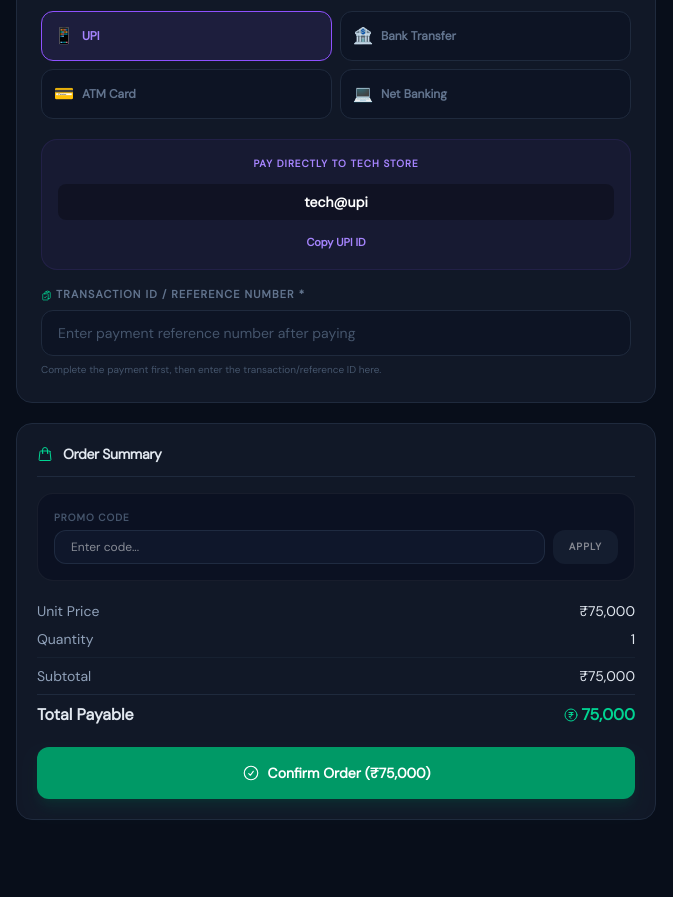
Test: Checkout Page › applies a valid coupon
The image size is (673, 897).
(page scrolled)
Step 1. Type "SAVE10" into the field with placeholder "Enter code..." → (299, 547), box top-left (54, 530), bottom-right (545, 564)
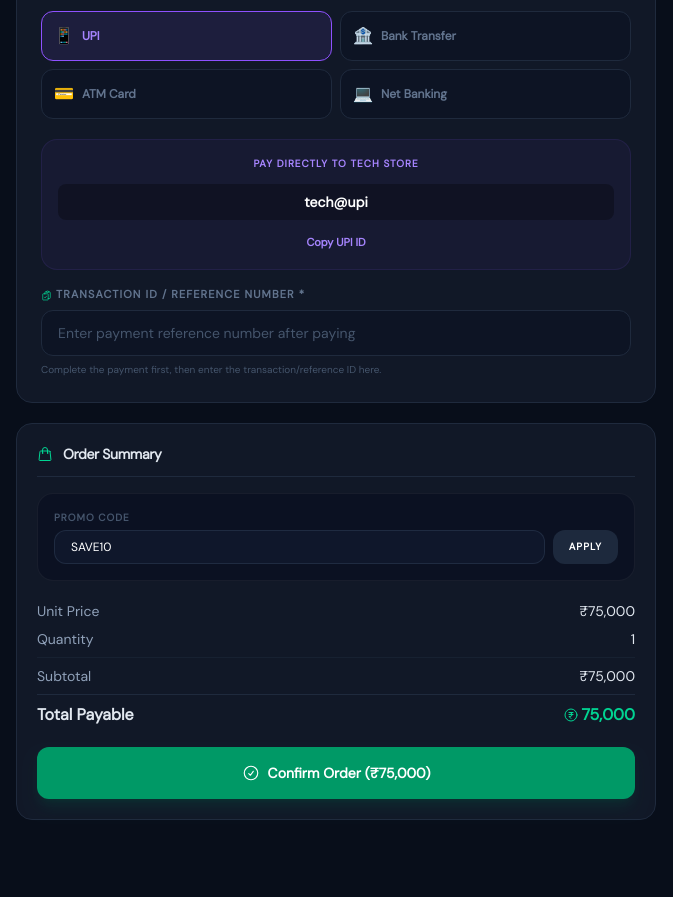
Now the button "Apply" is enabled
Step 2. Click the button "Apply" → (585, 547), box top-left (553, 530), bottom-right (618, 564)
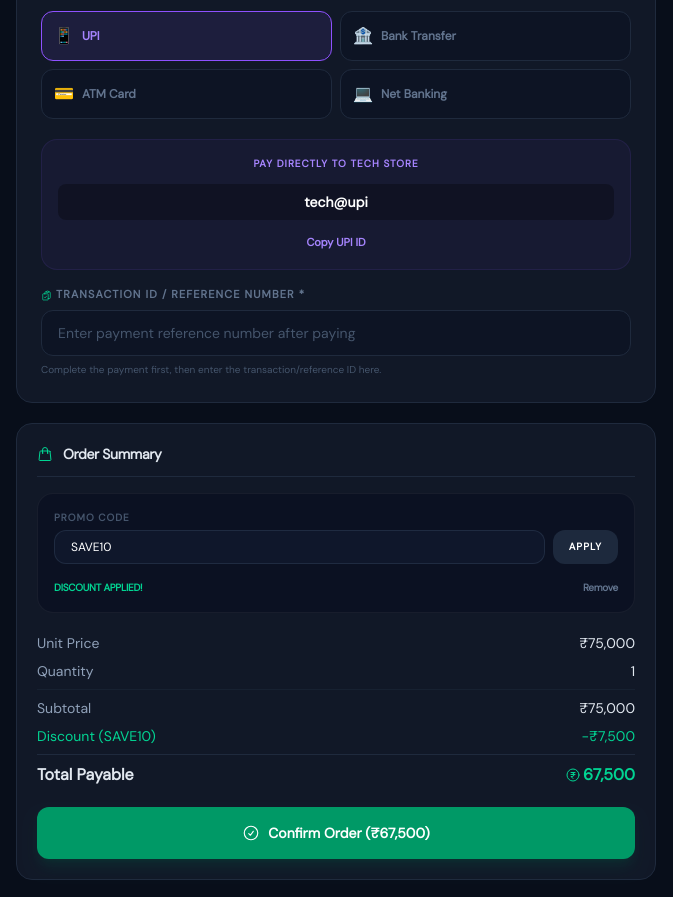
Now the text "Discount Applied!" is shown, box top-left (54, 580), bottom-right (142, 596)
Now the text "67,500" is shown, box top-left (565, 763), bottom-right (635, 787)
